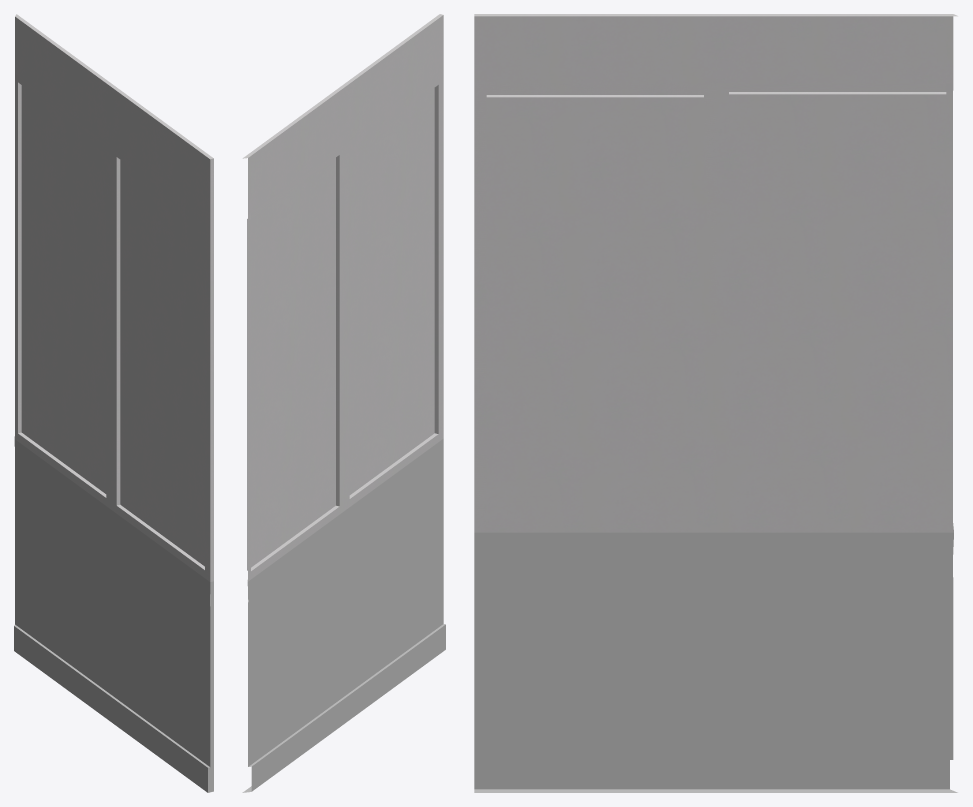
File: SM_Wall_Tiled_51.fbx
3 views of the same model, side by side, from view 1: azimuth 30°, elevation 25°; view 2: azimuth 150°, elevation 25°; view 3: azimuth 270°, elevation 25° (orthographic). The views are drawn at different scales.
Parts seen in each view (by area): view 1: SM_Wall_Tiled_51; view 2: SM_Wall_Tiled_51; view 3: SM_Wall_Tiled_51.
Part boxes in pixels (x1,y1,x2,y2): SM_Wall_Tiled_51: (14,14,213,792); SM_Wall_Tiled_51: (242,14,445,792); SM_Wall_Tiled_51: (474,14,957,792).
Bounding box in the file's own units: 5.85 × 334 × 590.
